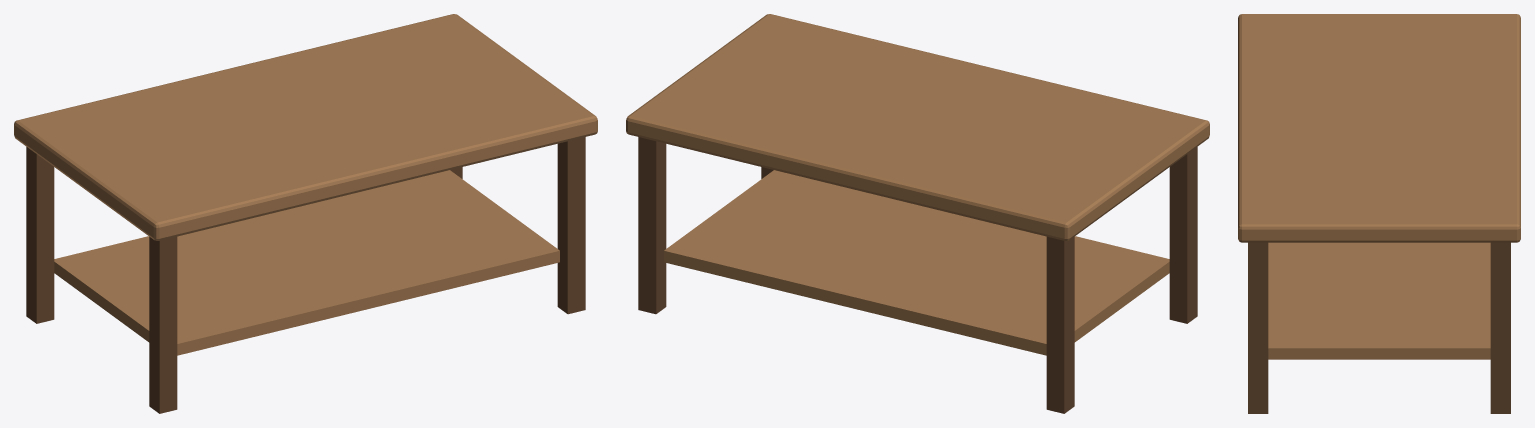
Rendered from MesaRatona.fbx.
3 renders of one model, left to right at view 1: azimuth 30°, elevation 25°; view 2: azimuth 150°, elevation 25°; view 3: azimuth 270°, elevation 25°, orthographic.
Visible parts, largest first — view 1: Deco_Mesa_Ratona; view 2: Deco_Mesa_Ratona; view 3: Deco_Mesa_Ratona.
Part boxes in pixels (<box>): Deco_Mesa_Ratona: <box>14,14,597,413</box>; Deco_Mesa_Ratona: <box>626,14,1209,413</box>; Deco_Mesa_Ratona: <box>1238,14,1520,413</box>.
Bounding box in the file's own units: 1 × 0.42 × 0.56.
